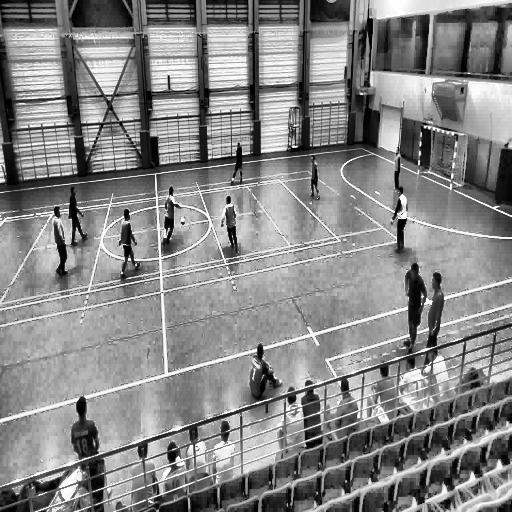ball: (180, 214, 186, 224)
player: (249, 343, 282, 413), (405, 262, 428, 350), (118, 207, 140, 280), (53, 206, 69, 279), (69, 186, 88, 245), (162, 186, 180, 248), (392, 185, 407, 253), (221, 195, 238, 254), (308, 153, 320, 200), (231, 143, 244, 185), (392, 142, 401, 195)
